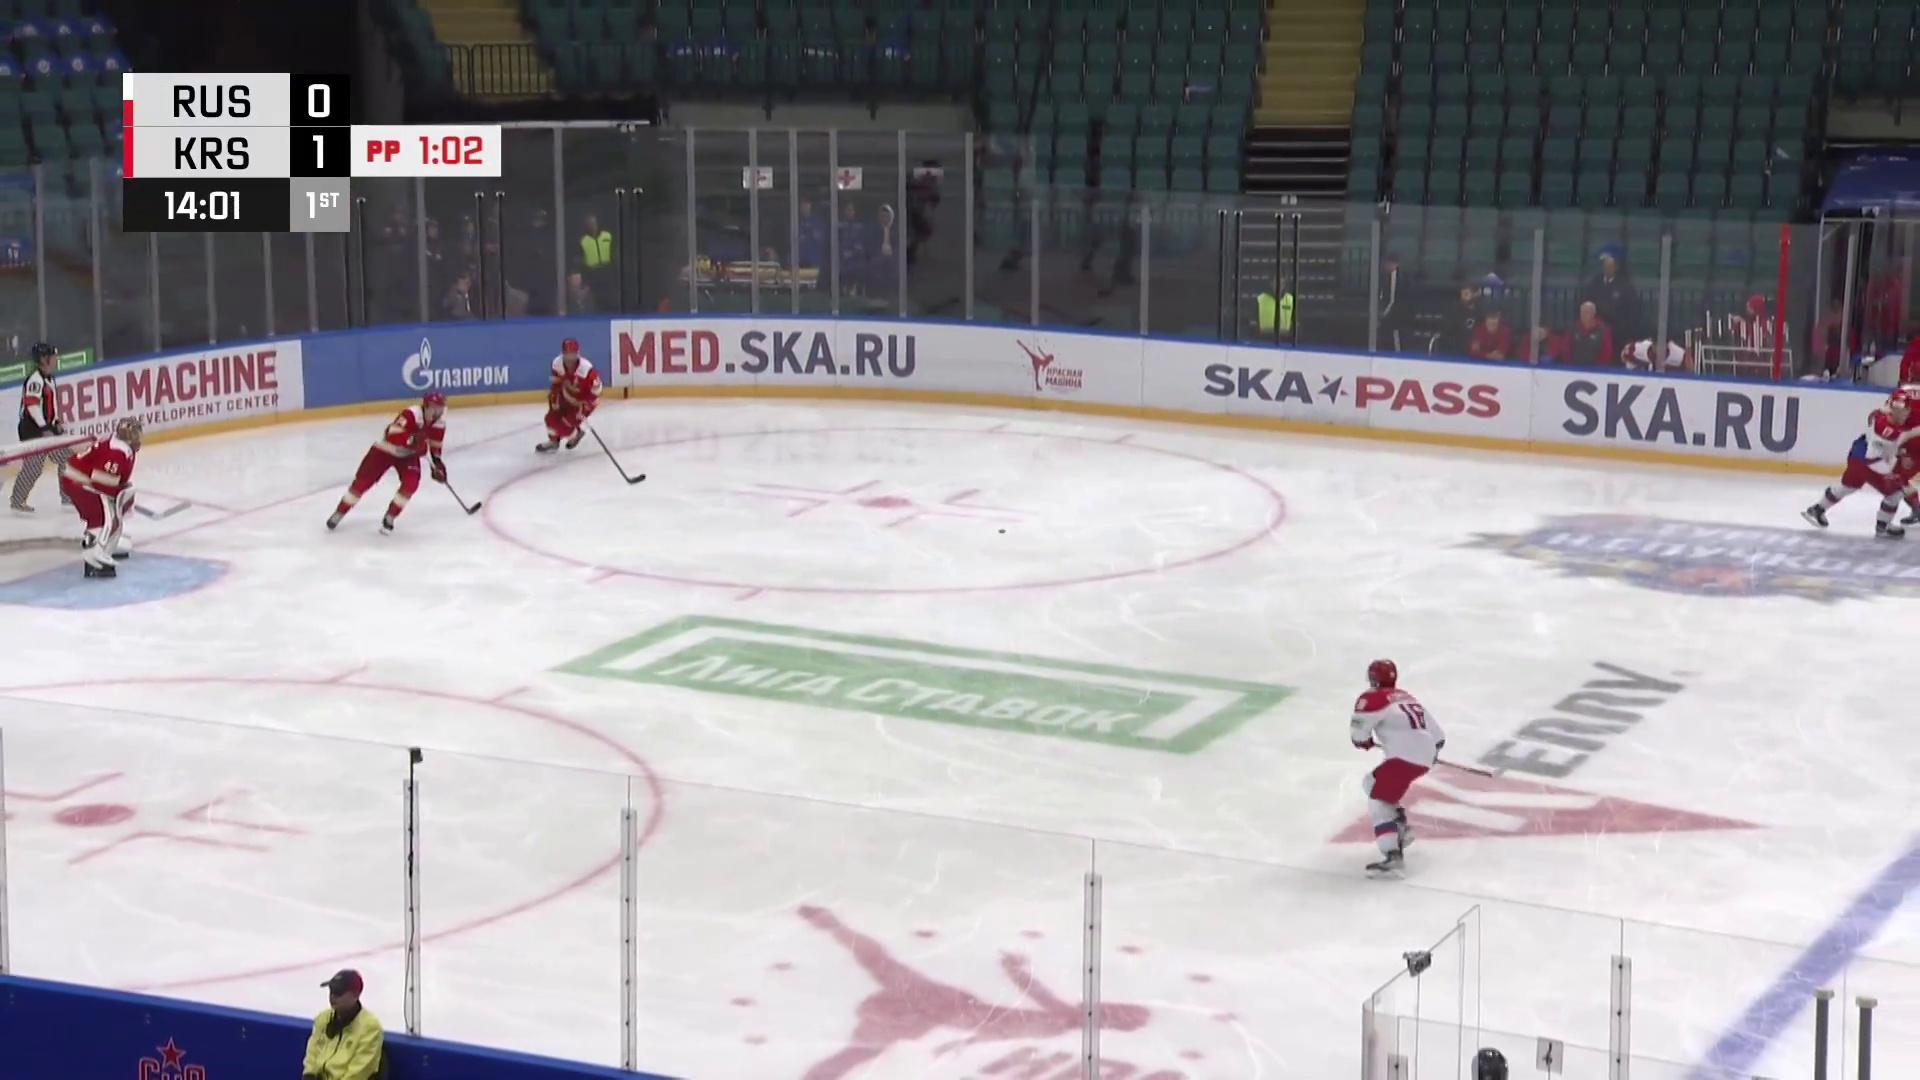ball: (996, 527, 1009, 535)
